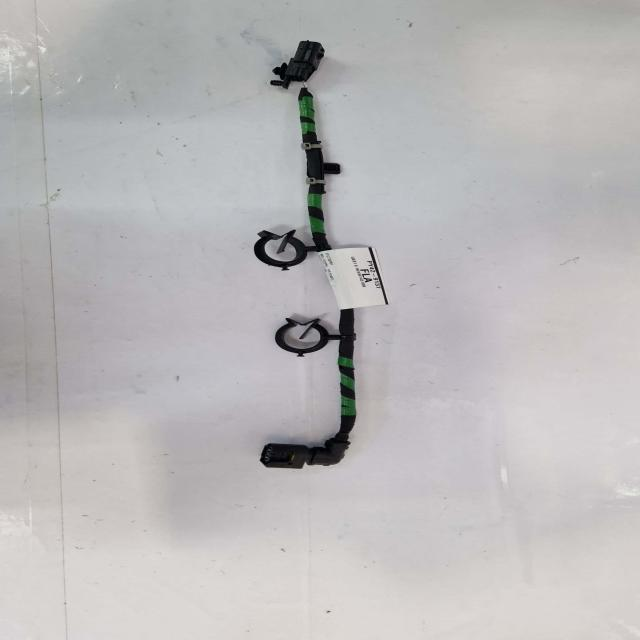AJ20_D6_Cable: (292, 87, 334, 254), (333, 312, 352, 439)
Clip: (268, 319, 350, 358), (244, 230, 308, 270)
Connector: (255, 438, 346, 469), (261, 39, 314, 87)
Info: (311, 245, 385, 309)
strap: (297, 139, 322, 146), (302, 177, 321, 184)
